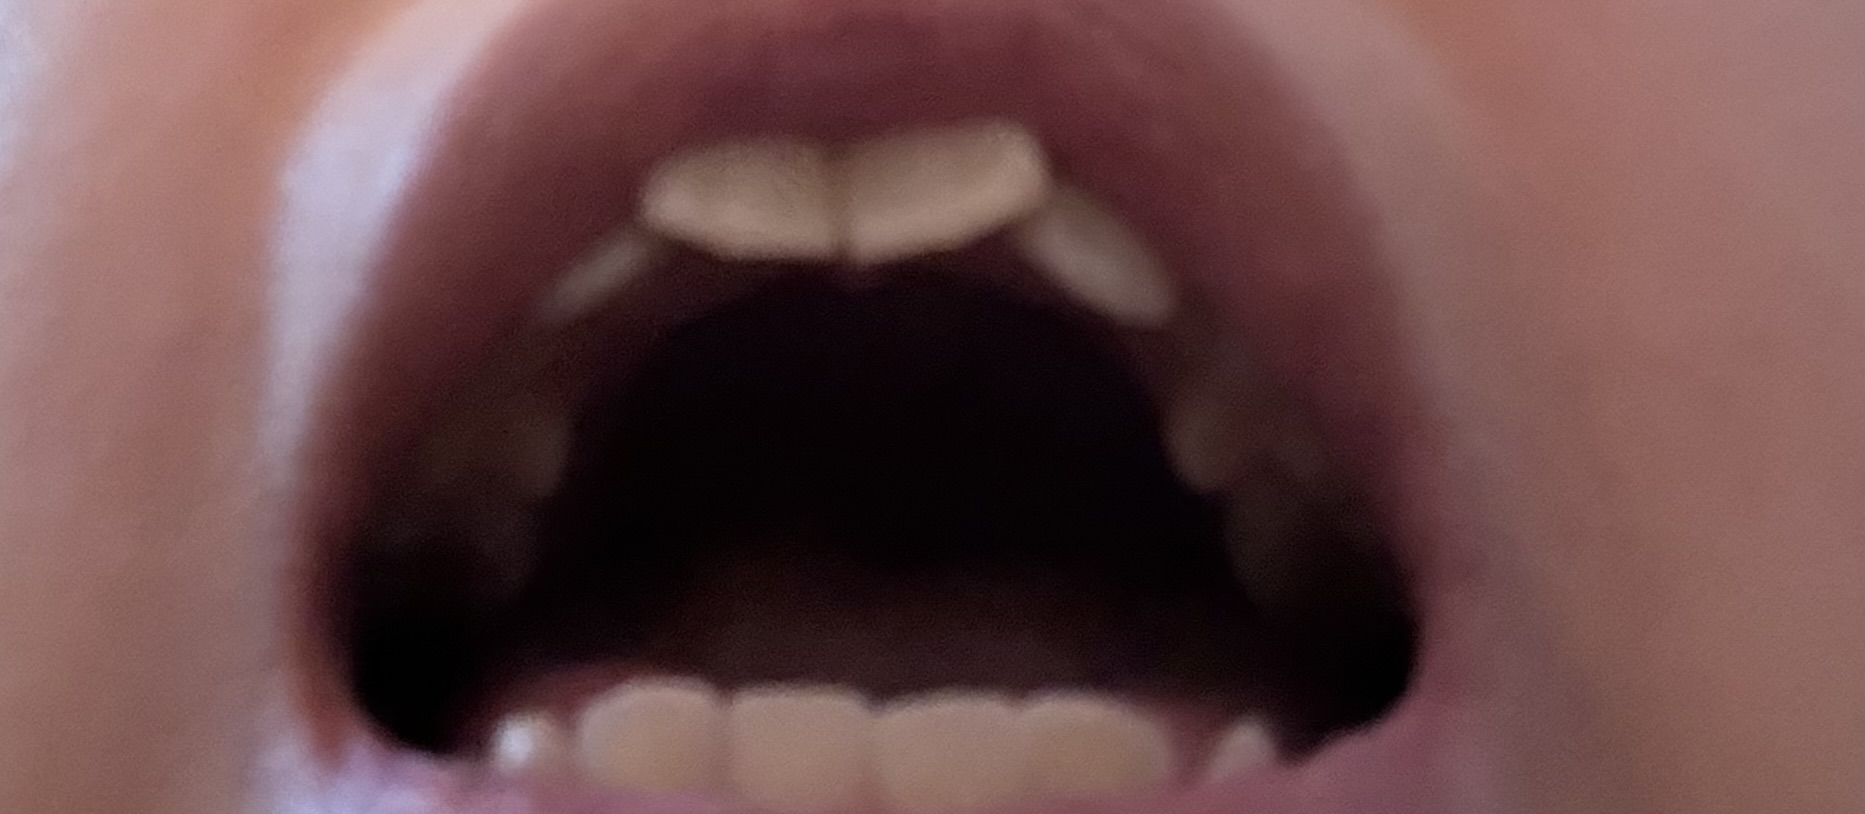teeth: (841, 119, 1045, 263), (1036, 190, 1167, 331), (663, 149, 824, 258), (596, 682, 707, 797), (751, 688, 855, 807), (894, 700, 1007, 803), (1047, 703, 1151, 793)
